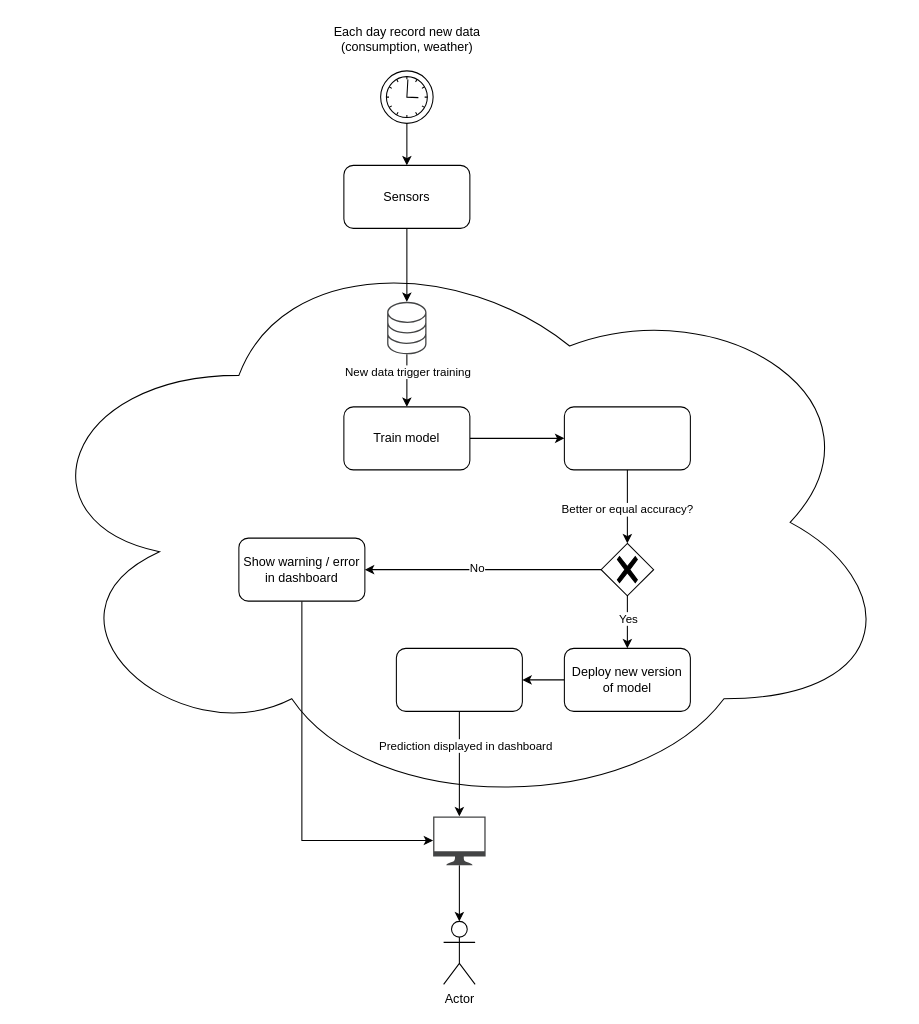
This 919x1024 diagram has some shape labels left out. The shapes that lost their labels are listed below. From the top down, each one's centre as x and y in pixels, then its label:
At pixel 626 438: "Test model".
At pixel 458 679: "Model".
